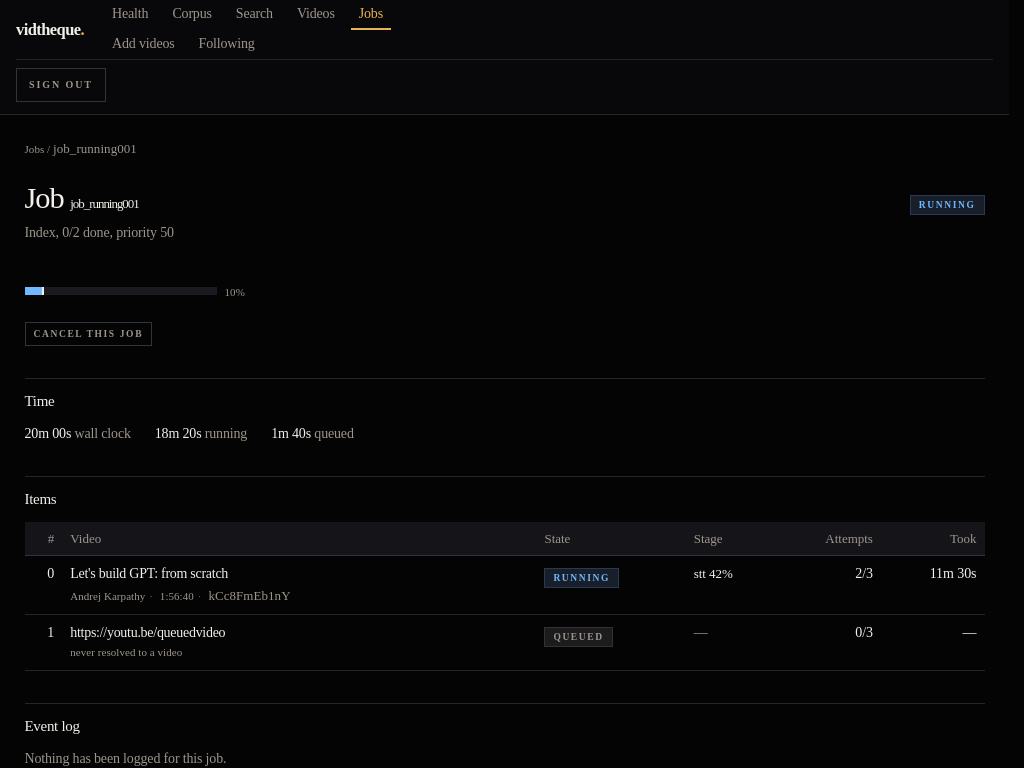
one job's page › the two controls › keeps the control away once the cancel settled the job
Click the button "Cancel this job": (88, 334) [24,322,152,346]
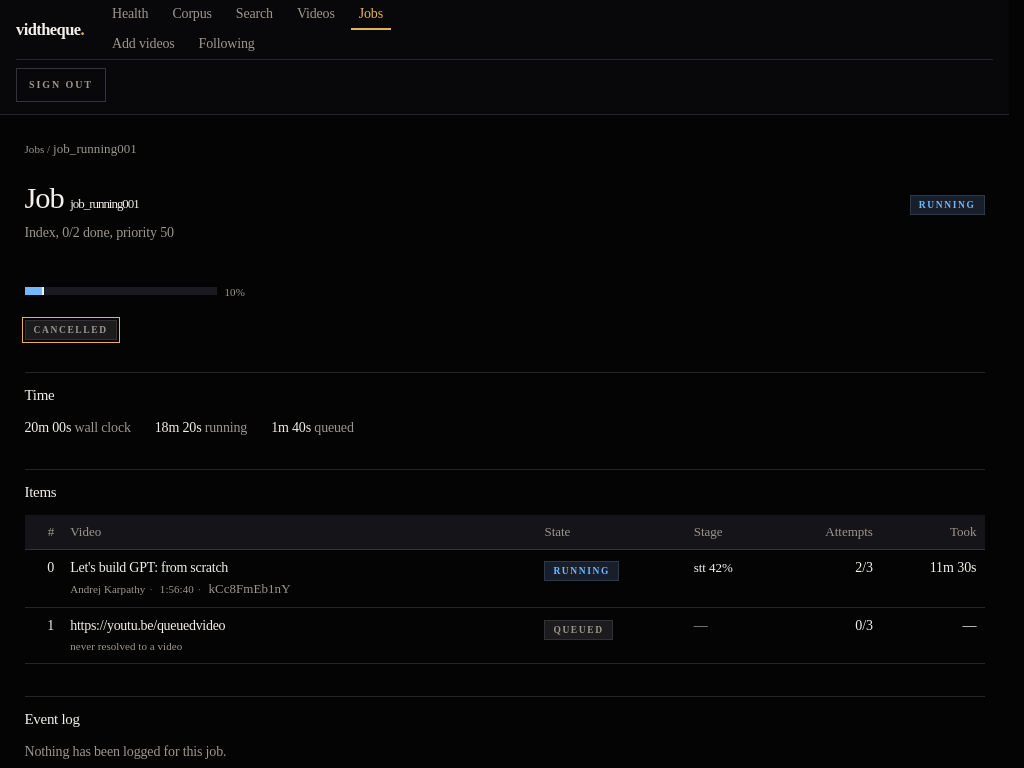
Now the text "cancelled" is shown, box [24,320,117,340]
Now the button "Cancel this job" is gone
